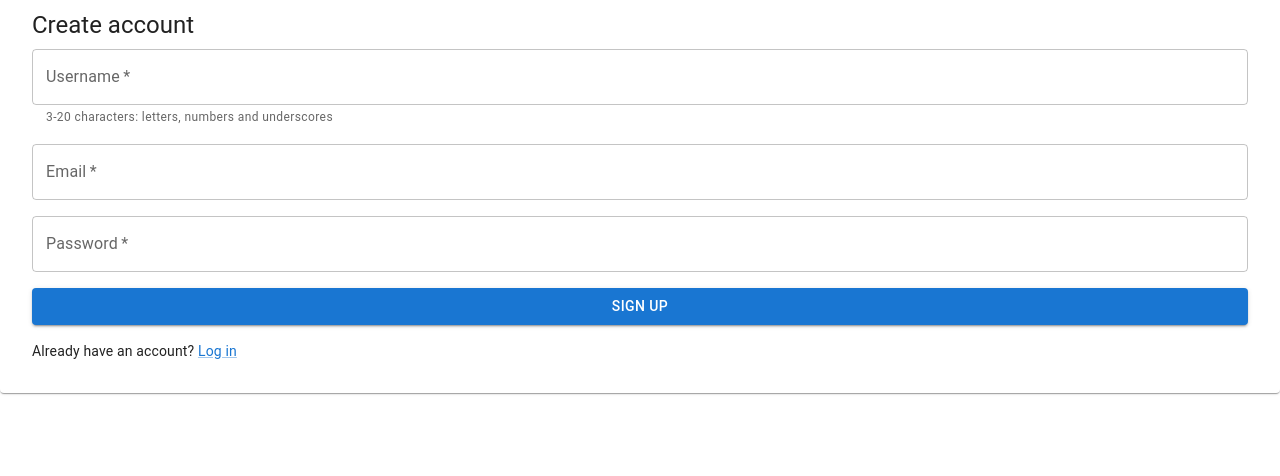
Test: Register › turns the database error for a taken username into a friendly message
The width and height of the screenshot is (1280, 476).
Type "taken_name" into the field labelled "Username *" at (640, 77), box [32,49,1248,105]
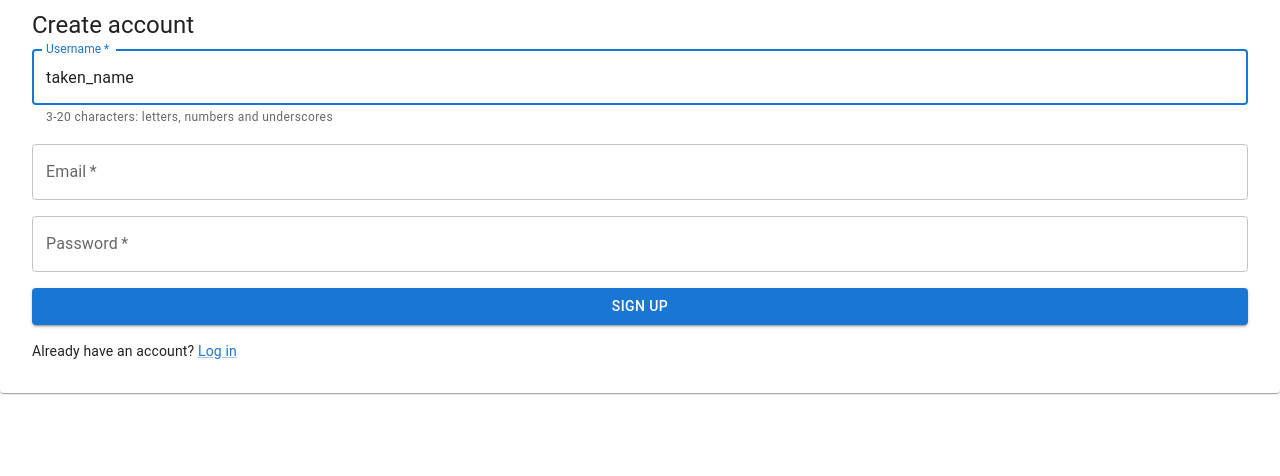
Type "new@example.test" into the field labelled "Email *" at (640, 172), box [32,144,1248,200]
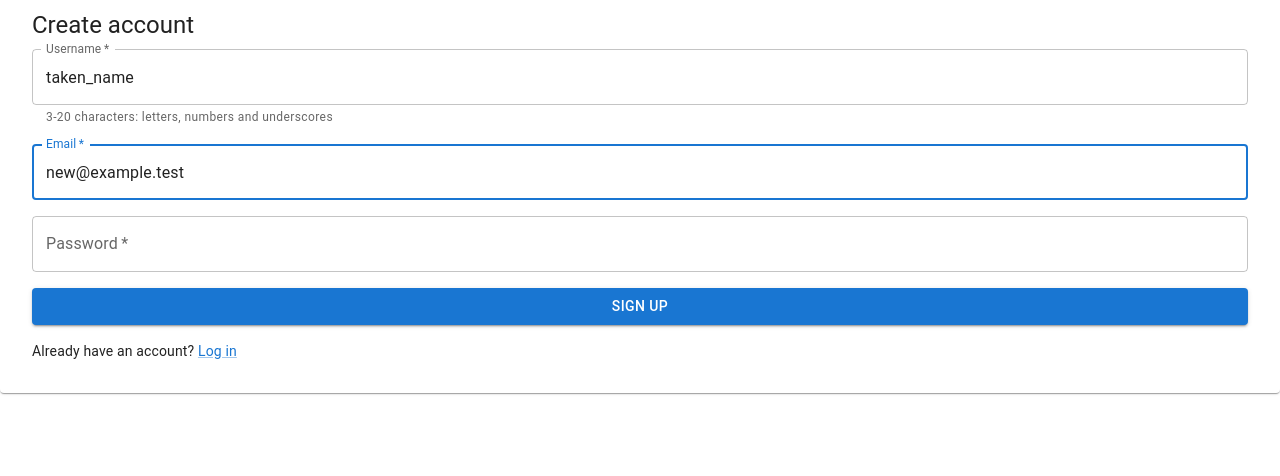
Type "secret123" into the password field labelled "Password *" at (640, 244), box [32,216,1248,272]
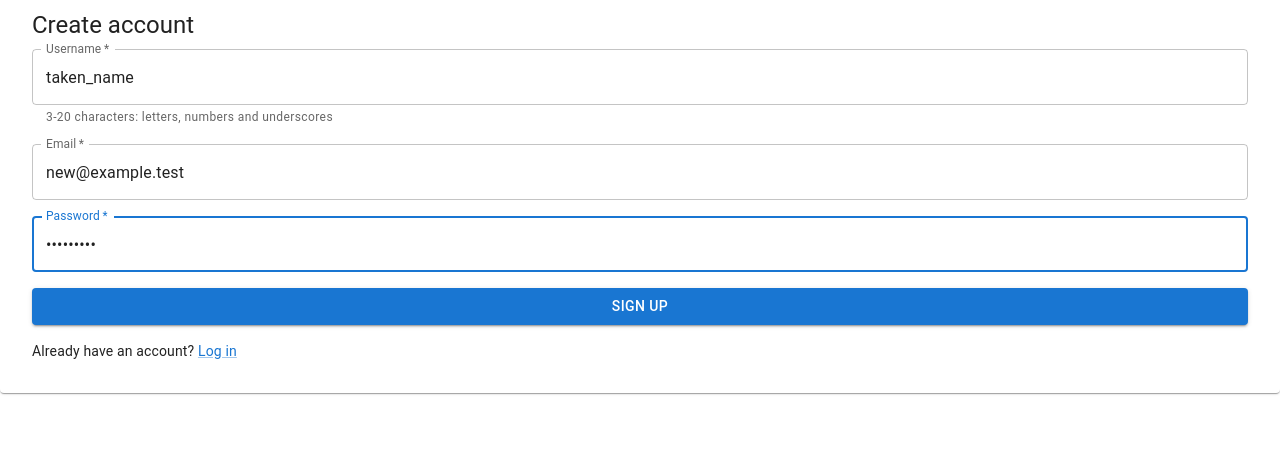
Click the button "Sign up" at (640, 307), box [32,288,1248,325]
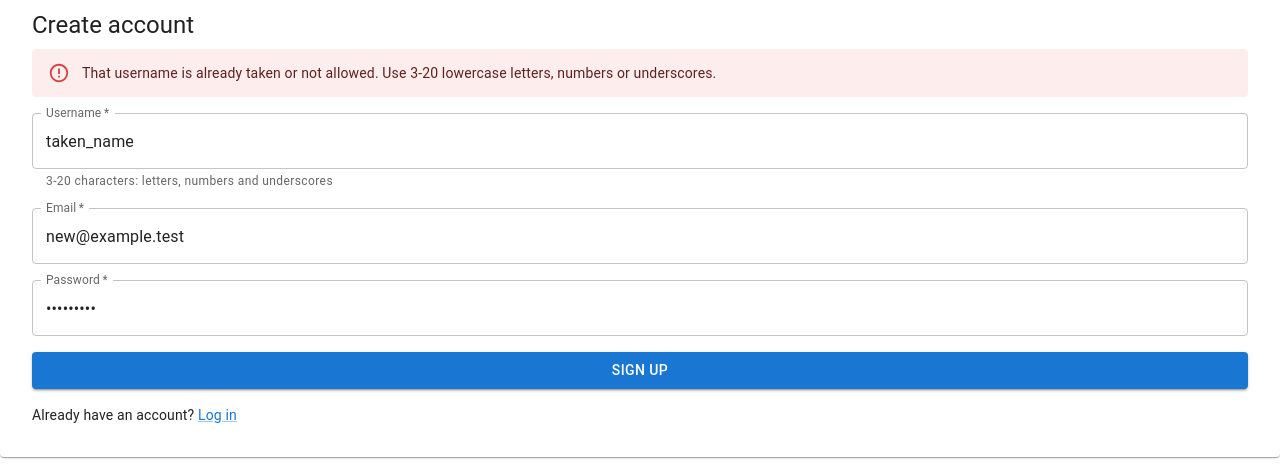
Now the text "username is already taken" is shown, box [82,65,716,81]
